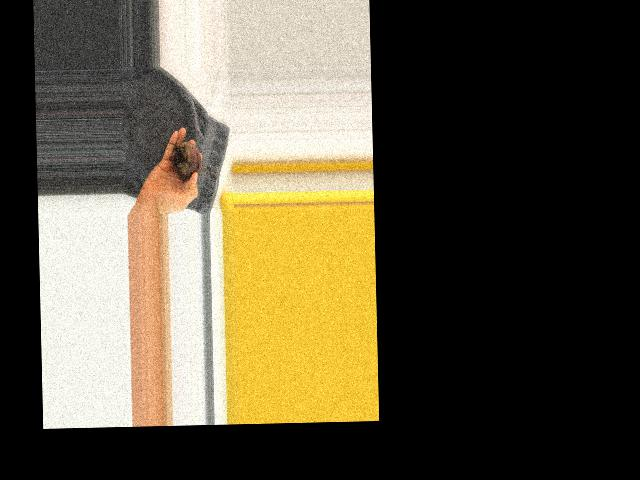beet: (170, 141, 220, 180)
